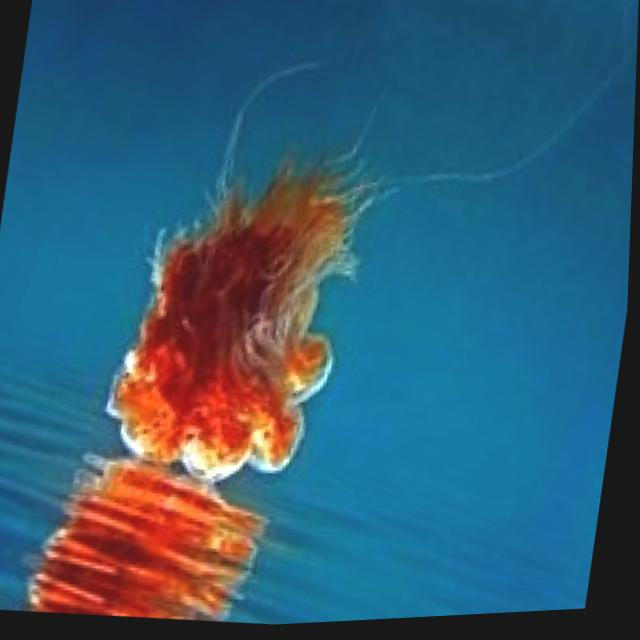Box-jellyfish: (30, 443, 284, 636)
